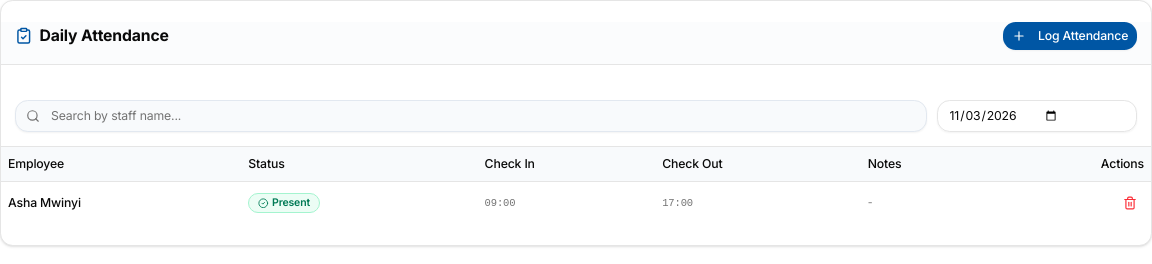
it: HRAttendanceSubtab › hides a record dated on another day once the date filter changes
Type "2020-01-01" into the date field. click: (1037, 116)
box: [937, 100, 1137, 132]
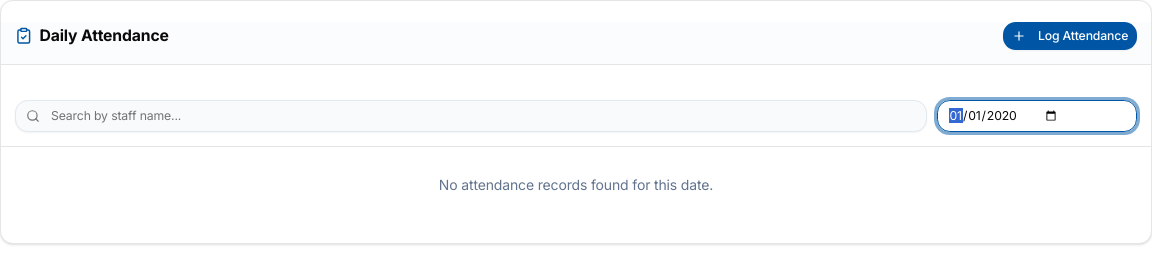
Expected: the text "Asha Mwinyi" is gone
